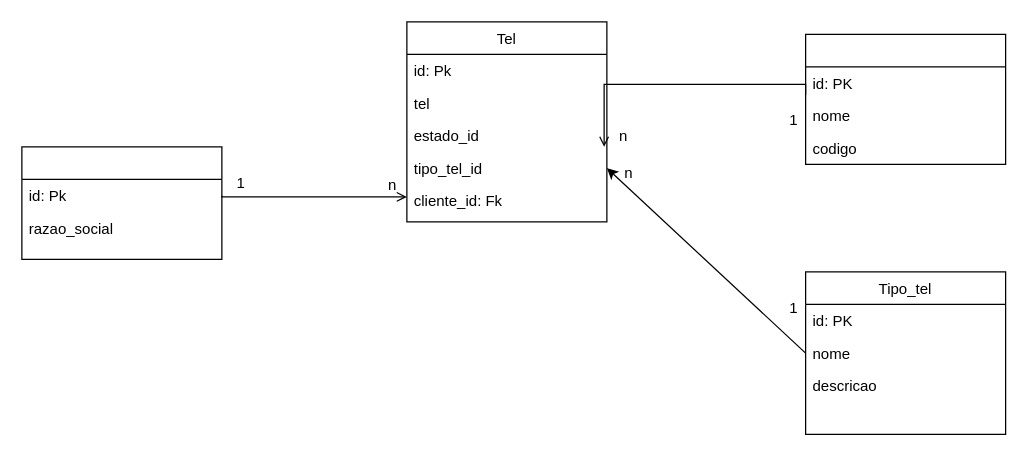
Some shapes in this 1028 by 456 pixel diagram are drawn without their labels. Here are the shapes that lost their labels. From the top down, the box of each, then its label:
(804, 33, 1006, 164): Estado
(21, 146, 222, 259): Cliente
